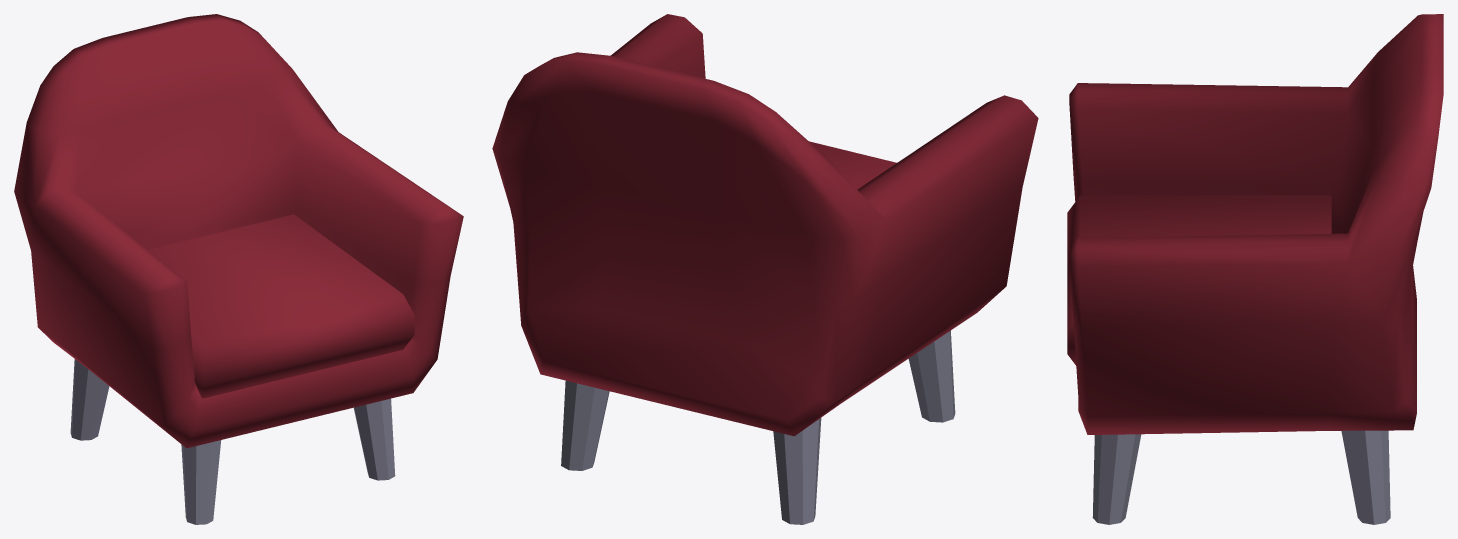
File: Chair-Armchair_Hotel_01.fbx
3 views of the same model, side by side, from view 1: azimuth 30°, elevation 25°; view 2: azimuth 150°, elevation 25°; view 3: azimuth 270°, elevation 25° (orthographic). The views are drawn at different scales.
Visible parts, largest first — view 1: Armchair; view 2: Armchair; view 3: Armchair.
Boxes of the visible parts, x1,y1,x2,y2 form: Armchair: [14, 14, 463, 524]; Armchair: [492, 14, 1038, 524]; Armchair: [1067, 14, 1443, 524].
Bounding box in the file's own units: 0.9281 × 1.01 × 0.8238.
